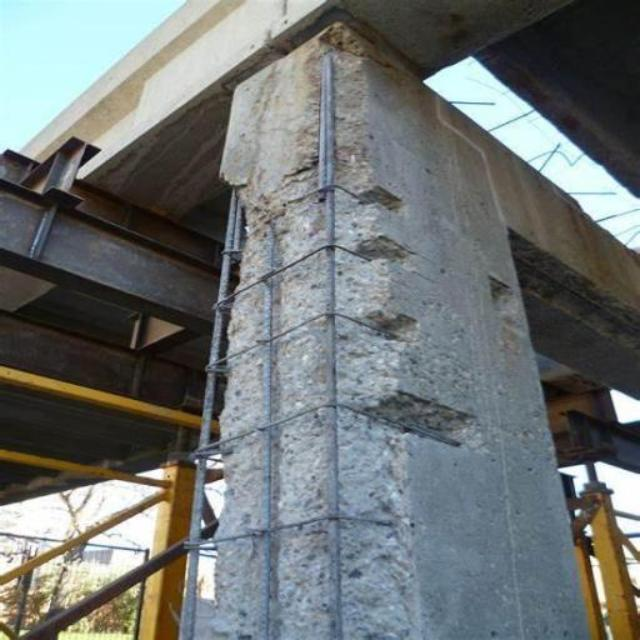D0w0: (190, 30, 475, 639)
